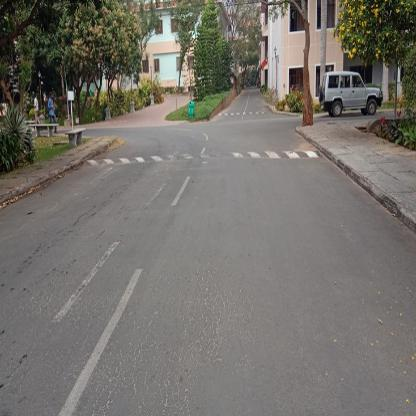speed-bumps: (80, 140, 322, 168), (221, 106, 272, 122)
